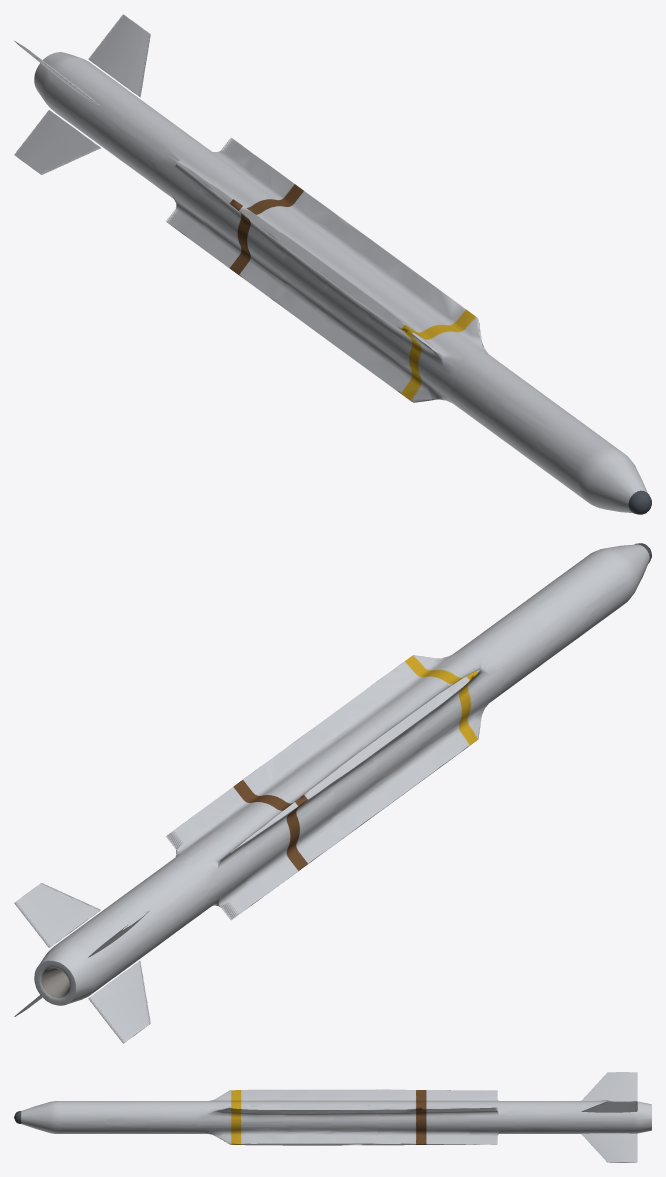
The model's file is micair.glb.
The picture shows the model from 3 angles, top to bottom: view 1: azimuth 30°, elevation 25°; view 2: azimuth 150°, elevation 25°; view 3: azimuth 270°, elevation 25°; orthographic projection. The views are drawn at different scales.
Visible parts, largest first — view 1: airframe, fsim:elevator+aileron:1+rudder:1@-20,20, fsim:elevator+aileron:-1+rudder:1@-20,20; view 2: airframe, fsim:elevator+aileron:-1+rudder:1@-20,20, fsim:elevator+aileron:1+rudder:1@-20,20; view 3: airframe, fsim:elevator+aileron:1+rudder:-1@-20,20, fsim:elevator+aileron:-1+rudder:-1@-20,20, fsim:elevator+aileron:1+rudder:1@-20,20.
Boxes of the visible parts, left/top/right/bottom form: airframe: left=34, top=52, right=651, bottom=514; fsim:elevator+aileron:1+rudder:1@-20,20: left=88, top=14, right=150, bottom=97; fsim:elevator+aileron:-1+rudder:1@-20,20: left=14, top=110, right=100, bottom=174; airframe: left=34, top=543, right=651, bottom=1005; fsim:elevator+aileron:-1+rudder:1@-20,20: left=88, top=960, right=150, bottom=1043; fsim:elevator+aileron:1+rudder:1@-20,20: left=14, top=883, right=100, bottom=947; airframe: left=14, top=1089, right=651, bottom=1145; fsim:elevator+aileron:1+rudder:-1@-20,20: left=581, top=1133, right=637, bottom=1162; fsim:elevator+aileron:-1+rudder:-1@-20,20: left=581, top=1072, right=637, bottom=1100; fsim:elevator+aileron:1+rudder:1@-20,20: left=581, top=1100, right=637, bottom=1112.
Size of the model in its own units: 0.3356 by 0.3361 by 3.1.
Materials: 4 (1 with a texture image).
